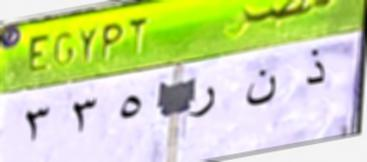3: (64, 95, 102, 140), (24, 102, 52, 142)
5: (113, 86, 151, 126)
noon: (240, 66, 279, 110)
raa: (189, 82, 218, 121)
zaal: (302, 42, 329, 90)
